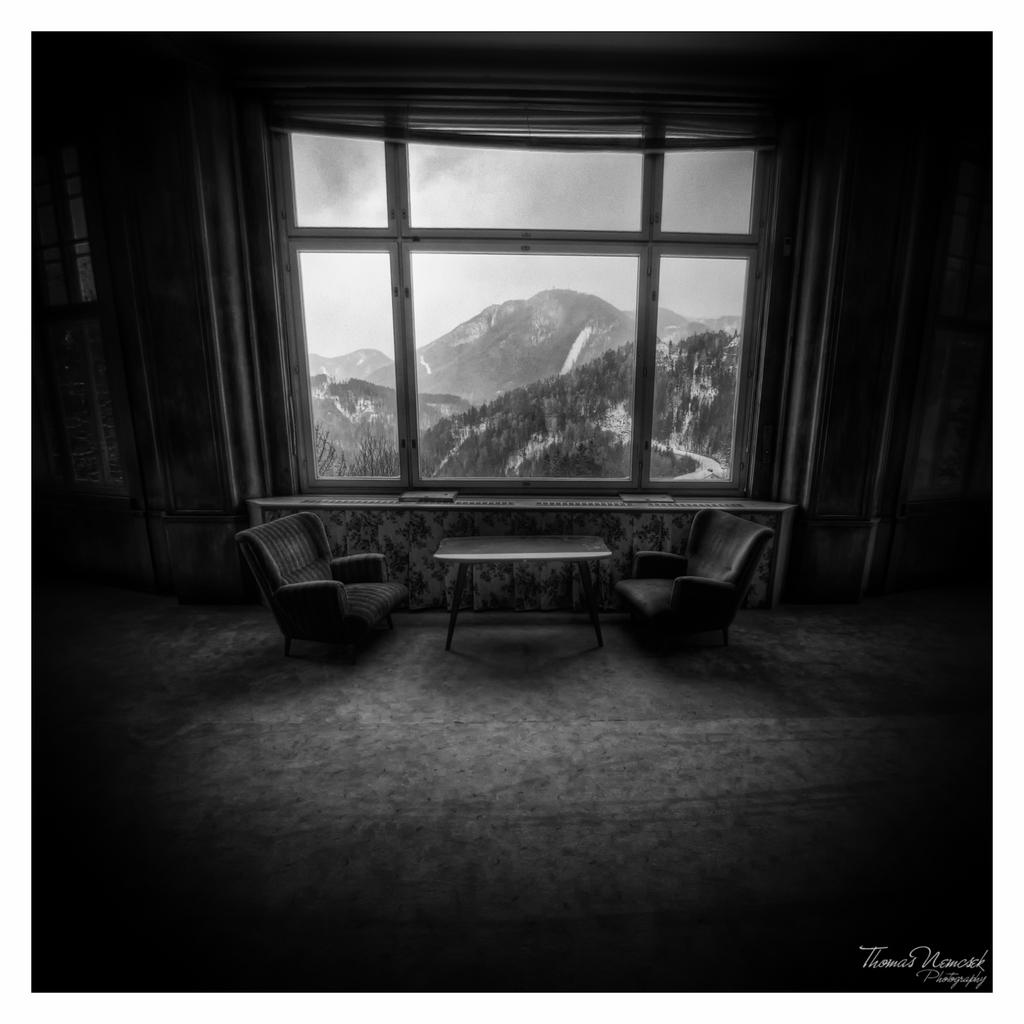Chair: (612, 508, 782, 662), (232, 514, 417, 652)
